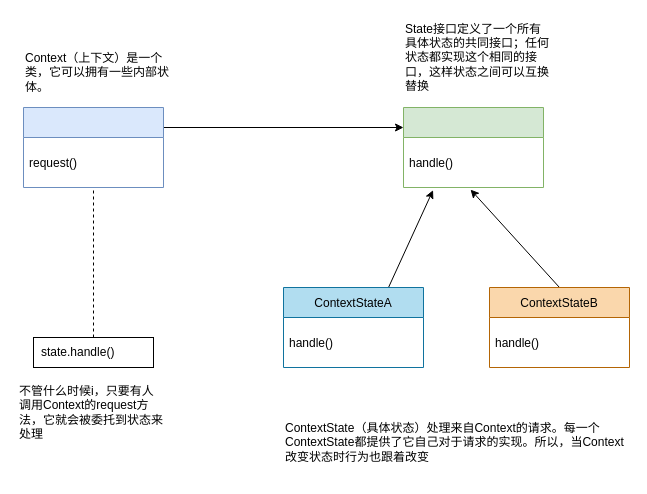
Image size: 647x494. Some labels were removed from this diagram. The box of each missing label's shape, as (x1, y1, x2, y2) in pixels:
Context: (22, 106, 164, 188)
state: (402, 106, 544, 188)
